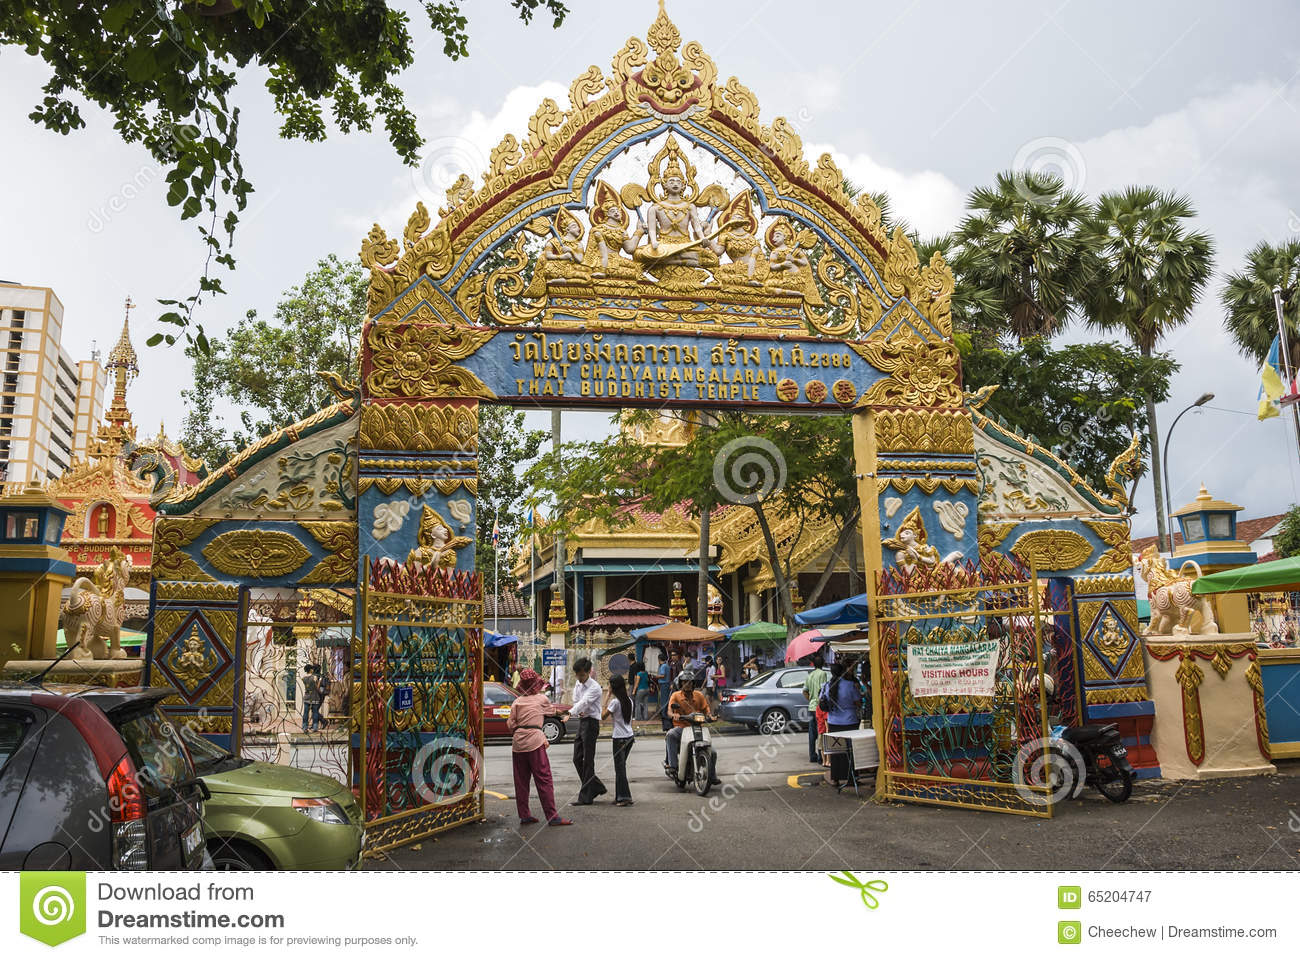Buddhist Temple: (307, 10, 986, 761)
